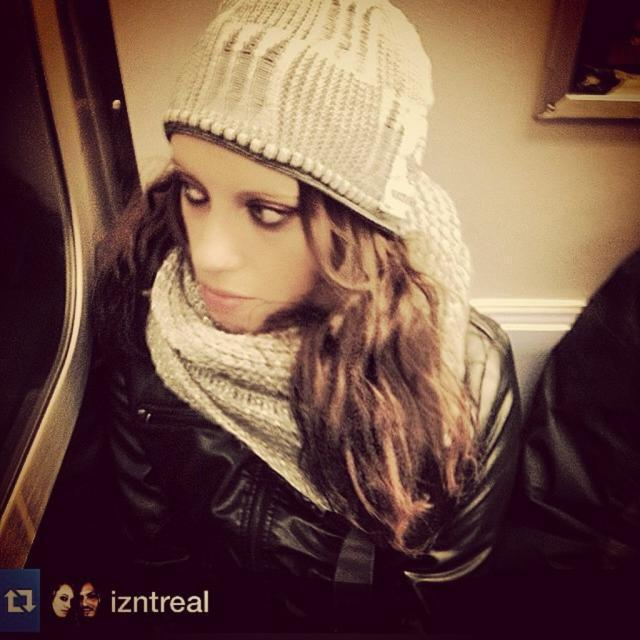closed-mouth: (197, 282, 251, 313)
